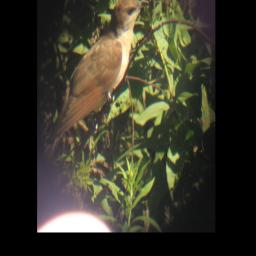Cuckoo: (40, 0, 150, 168)
